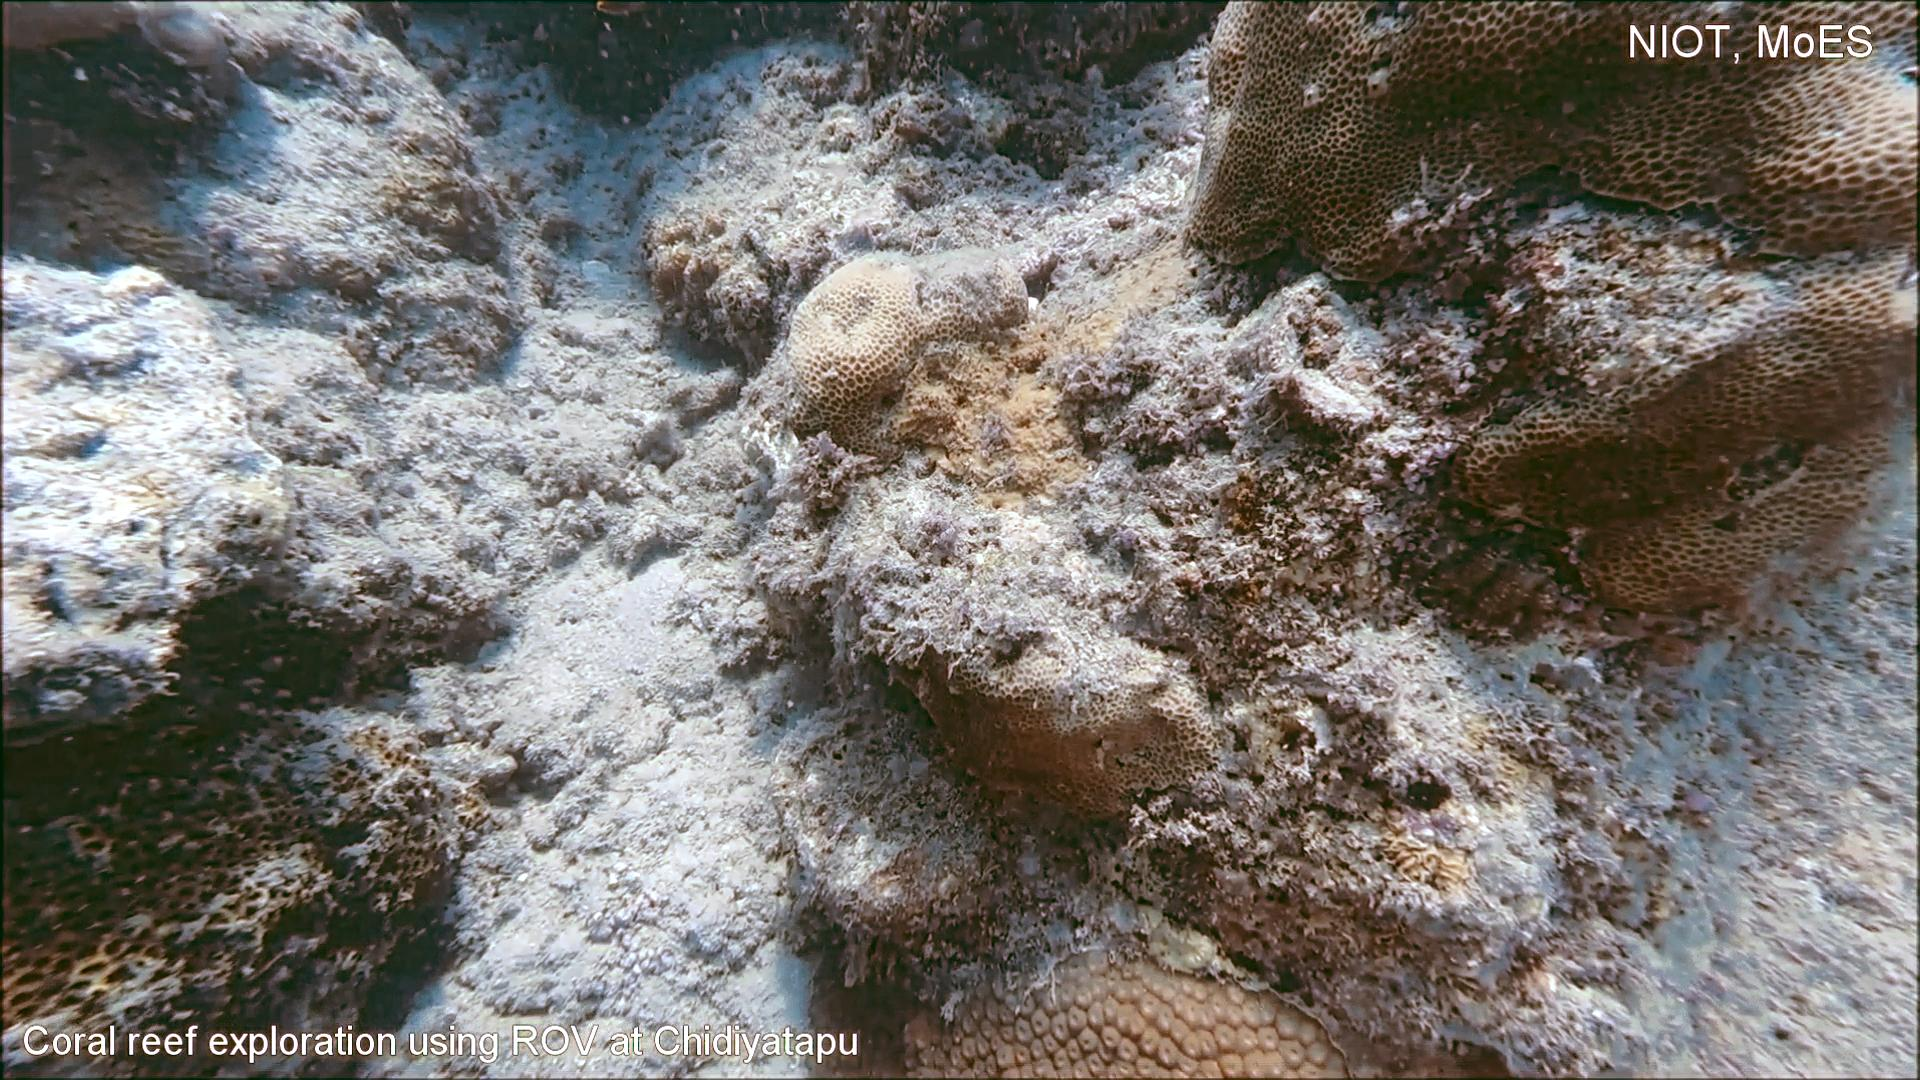Montastraea: (798, 927, 1365, 1080)
